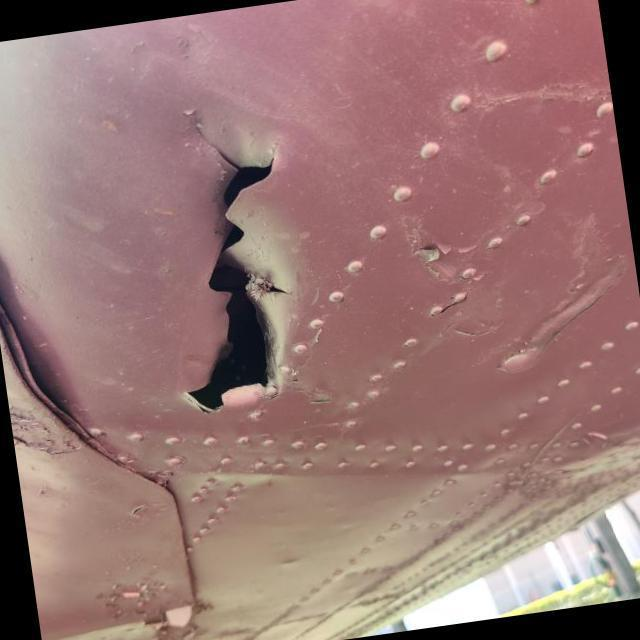dent: (3, 291, 108, 469)
